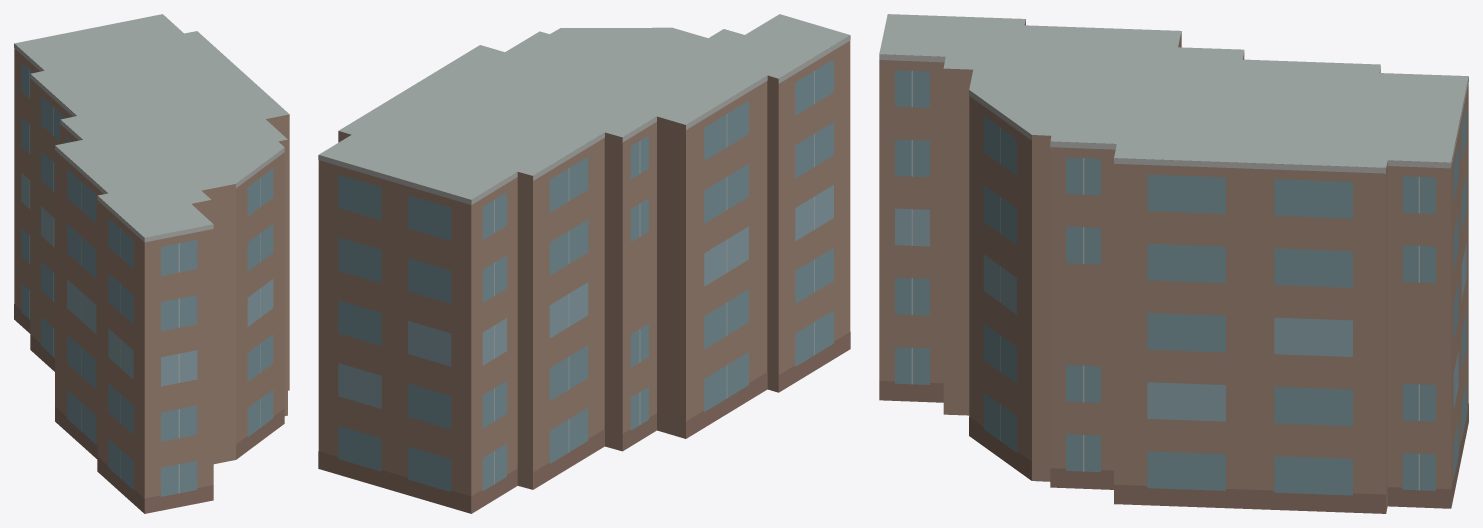
Rendered from survey-upis-32876386.glb.
The picture shows the model from 3 angles, left to right: view 1: azimuth 30°, elevation 25°; view 2: azimuth 150°, elevation 25°; view 3: azimuth 270°, elevation 25°; orthographic projection. The views are drawn at different scales.
Parts seen in each view (by area): view 1: survey-upis-32876386.tmp; view 2: survey-upis-32876386.tmp; view 3: survey-upis-32876386.tmp.
Part boxes in pixels (left/top/right/bottom): survey-upis-32876386.tmp: left=14, top=14, right=289, bottom=513; survey-upis-32876386.tmp: left=318, top=14, right=850, bottom=513; survey-upis-32876386.tmp: left=879, top=14, right=1468, bottom=513.
Bounding box in the file's own units: 13.93 × 14.6 × 22.55.
